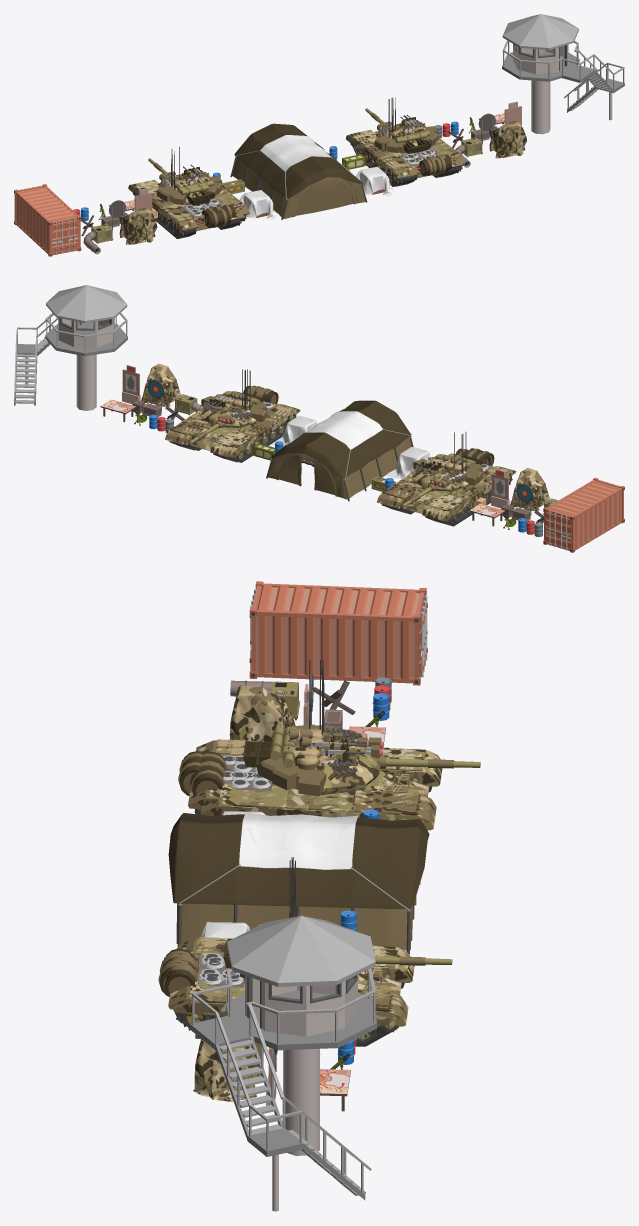
File: base_frente.glb
3 views of the same model, one above another, from view 1: azimuth 30°, elevation 25°; view 2: azimuth 150°, elevation 25°; view 3: azimuth 270°, elevation 25° (orthographic). The views are drawn at different scales.
Parts seen in each view (by area): view 1: tent_001, tower_001, container_001.001, tank_001.007, tank_001.011, box_002.001, box_002, tank_001.003, tank_tower_001.007, tank_001.005, tank_001.009, box_001 (+16 smaller); view 2: tent_001, tower_001, container_001.001, tank_001.011, tank_001.009, tank_001.003, tank_001.001, box_002.001, box_002, tank_tower_001.011, tank_tower_001.009, tank_tower_001.003 (+14 smaller); view 3: tower_001, tent_001, container_001.001, tank_001.009, tank_001.001, tank_tower_001.009, tank_001.011, box_002, tank_tower_001.007, box_002.001, tank_001.007, tank_tower_001.006 (+8 smaller).
Part boxes in pixels (box(x1,y1,x2,y2)): tent_001: box(230, 123, 367, 219); tower_001: box(502, 14, 624, 134); container_001.001: box(14, 184, 81, 256); tank_001.007: box(132, 187, 244, 238); tank_001.011: box(128, 174, 235, 235); box_002.001: box(489, 121, 526, 158); box_002: box(119, 207, 157, 244); tank_001.003: box(346, 124, 454, 185); tank_tower_001.007: box(160, 151, 217, 205); tank_001.005: box(376, 132, 463, 186); tank_001.009: box(146, 170, 249, 224); box_001: box(356, 166, 393, 196); tent_001: box(266, 400, 413, 501); tower_001: box(14, 285, 127, 410); container_001.001: box(543, 477, 624, 552); tank_001.011: box(385, 451, 511, 526); tank_001.009: box(377, 448, 495, 522); tank_001.003: box(184, 388, 299, 462); tank_001.001: box(165, 385, 285, 461); box_002.001: box(141, 363, 180, 406); box_002: box(510, 468, 549, 510); tank_tower_001.011: box(423, 434, 476, 492); tank_tower_001.009: box(412, 432, 468, 488); tank_tower_001.003: box(211, 371, 266, 428); tower_001: box(190, 915, 376, 1211); tent_001: box(168, 813, 429, 954); container_001.001: box(249, 581, 427, 685); tank_001.009: box(191, 747, 441, 830); tank_001.001: box(163, 944, 413, 1046); tank_tower_001.009: box(256, 667, 382, 796); tank_001.011: box(207, 739, 442, 820); box_002: box(229, 685, 295, 741); tank_tower_001.007: box(243, 659, 368, 787); box_002.001: box(193, 1039, 261, 1101); tank_001.007: box(178, 739, 396, 814); tank_tower_001.006: box(253, 660, 377, 773).
Bounding box in the file's own units: 47.98 × 9.57 × 11.58.
12 materials, 12 textured.
